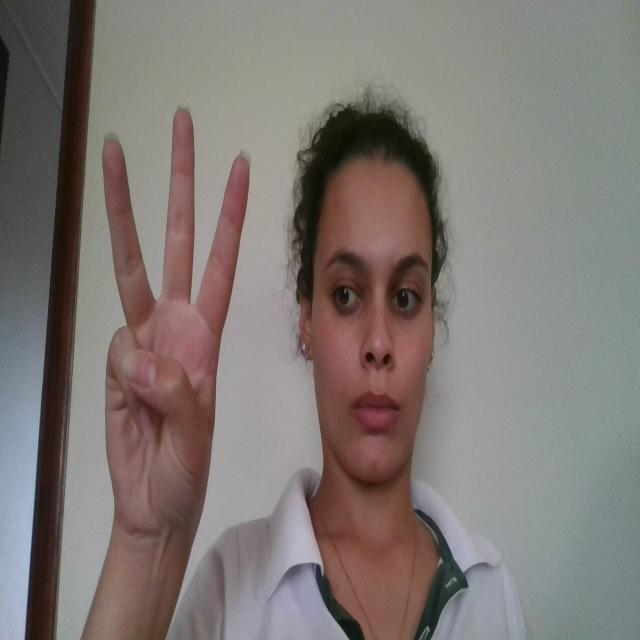W: (96, 103, 252, 533)
